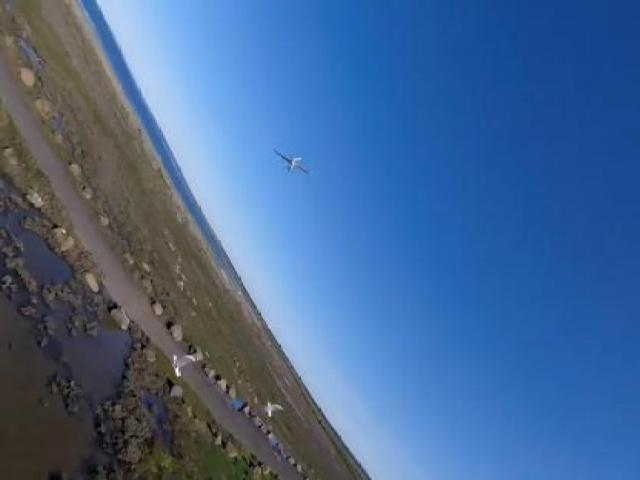uav: (274, 146, 314, 183)
